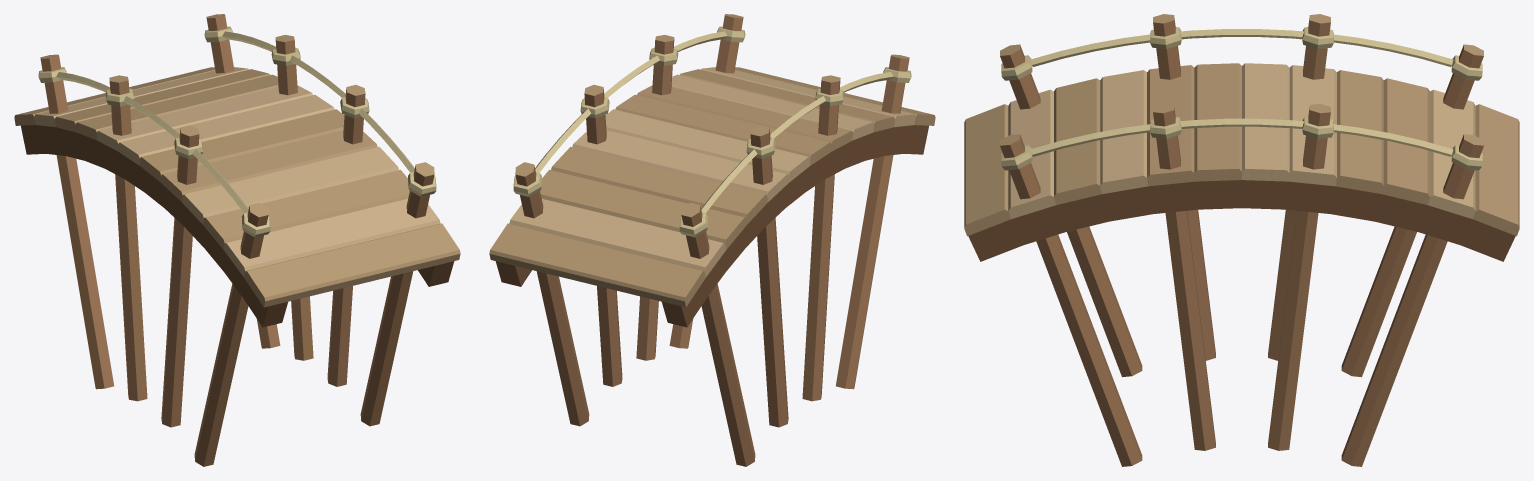
The model's file is Bridge.fbx.
3 views of the same model, side by side, from view 1: azimuth 30°, elevation 25°; view 2: azimuth 150°, elevation 25°; view 3: azimuth 270°, elevation 25° (orthographic). The views are drawn at different scales.
Visible parts, largest first — view 1: Bridge; view 2: Bridge; view 3: Bridge.
Part boxes in pixels (x1,y1,x2,y2): Bridge: (14, 14, 460, 466); Bridge: (489, 14, 935, 466); Bridge: (964, 14, 1519, 466).
Size of what is drawn, in the model's own units: 4 by 6.3 by 8.89.
